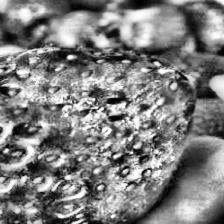Powdery Mildew Fruit: (0, 46, 197, 224)
